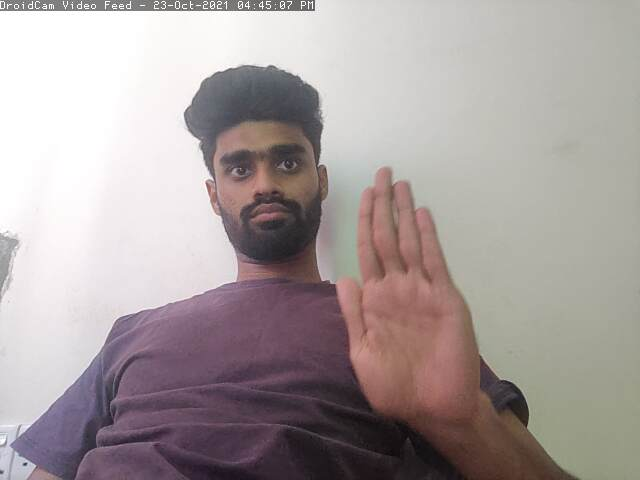Stop: (334, 160, 485, 424)
